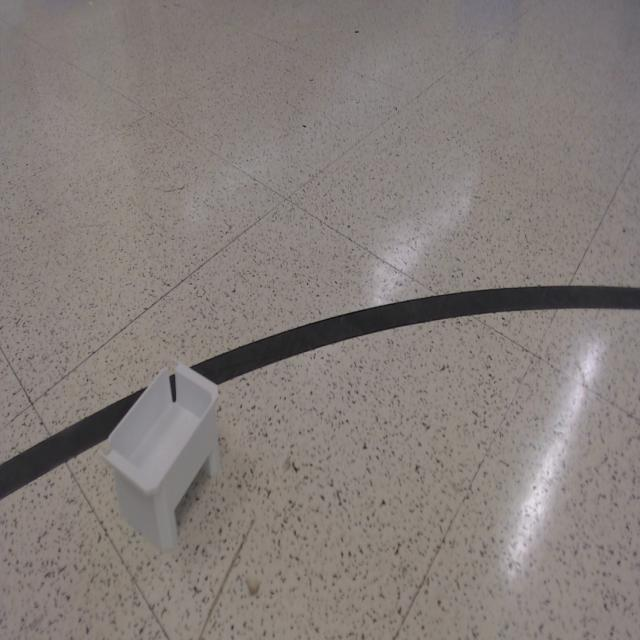wbox: (97, 356, 222, 554)
